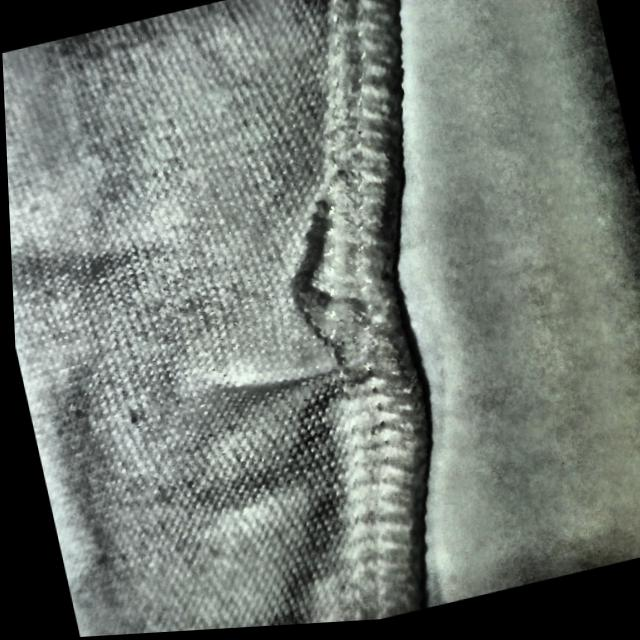seam: (192, 184, 431, 443)
